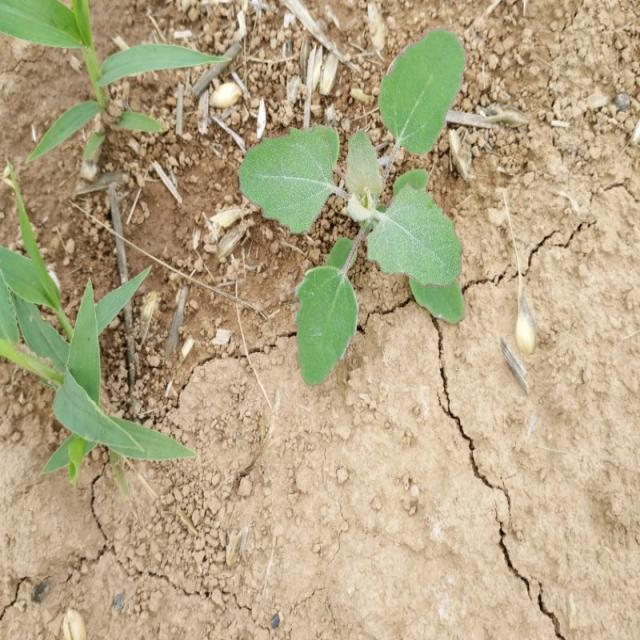ca: (240, 35, 468, 381)
